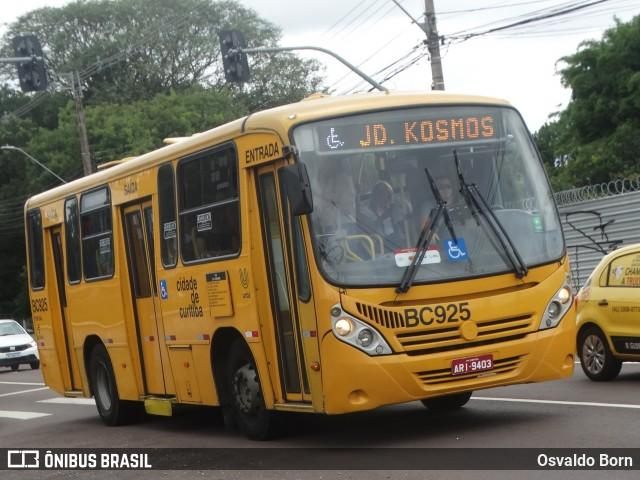JD KOSMOS: (351, 111, 499, 152)
